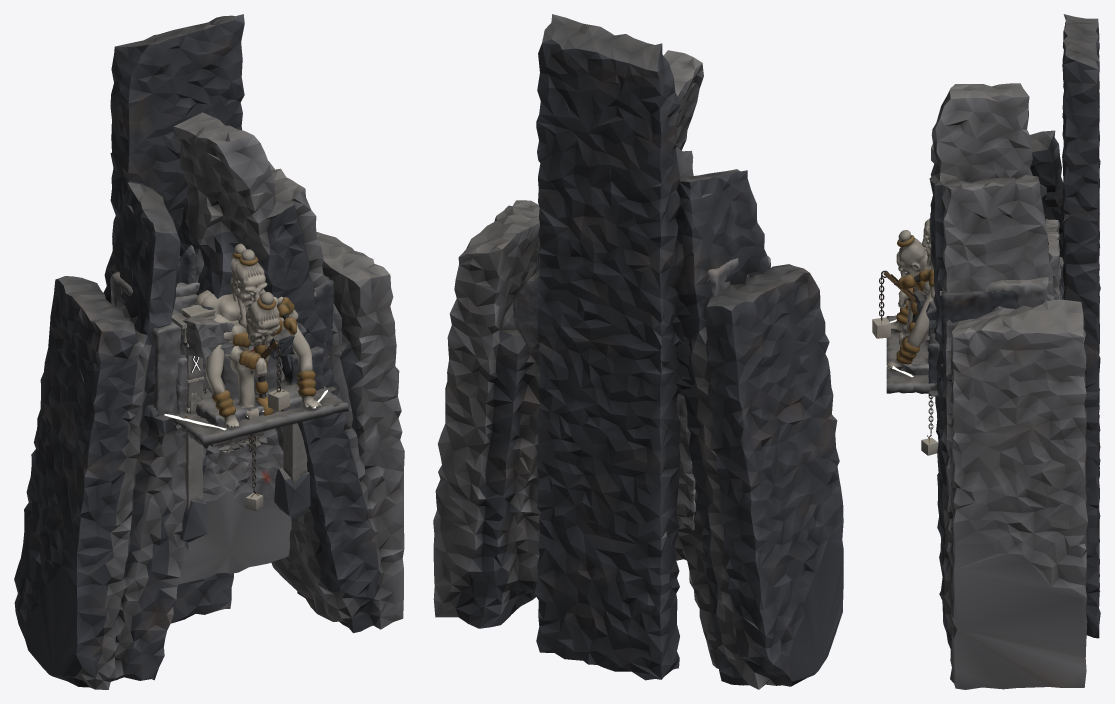
The model's file is smith_heart_hammer_kit_components.glb.
3 views of the same model, side by side, from view 1: azimuth 30°, elevation 25°; view 2: azimuth 150°, elevation 25°; view 3: azimuth 270°, elevation 25° (orthographic). The views are drawn at different scales.
Parts seen in each view (by area): view 1: Kit_CleftGate, Kit_CollapseOverhang, Kit_ColossusWaking, Kit_ColossusVigil, Kit_SlabFrame, Kit_ColossusBearer, Kit_GreatCliffC, Kit_Derrick, Kit_GreatCliffA; view 2: Kit_CleftGate, Kit_GreatCliffC, Kit_CollapseOverhang, Kit_ColossusWaking; view 3: Kit_CleftGate, Kit_ColossusWaking, Kit_ColossusVigil, Kit_CollapseOverhang, Kit_ColossusBearer, Kit_Derrick, Kit_ChainHoist.
Part boxes in pixels (x1,y1,x2,y2): Kit_CleftGate: (14,14,404,689); Kit_CollapseOverhang: (178,256,306,584); Kit_ColossusWaking: (110,271,348,445); Kit_ColossusVigil: (173,249,324,415); Kit_SlabFrame: (171,292,316,542); Kit_ColossusBearer: (196,243,303,426); Kit_GreatCliffC: (175,248,341,429); Kit_Derrick: (261,340,290,411); Kit_GreatCliffA: (176,245,284,380); Kit_CleftGate: (433,14,843,689); Kit_GreatCliffC: (513,258,696,396); Kit_CollapseOverhang: (675,394,695,560); Kit_ColossusWaking: (536,229,770,296); Kit_CleftGate: (929,14,1100,689); Kit_ColossusWaking: (886,219,1048,393); Kit_ColossusVigil: (900,218,939,383); Kit_CollapseOverhang: (913,219,1060,329); Kit_ColossusBearer: (897,265,934,375); Kit_Derrick: (872,270,915,338); Kit_ChainHoist: (921,396,938,455).
Size of the model in its own units: 60.2 by 105 by 37.25.
